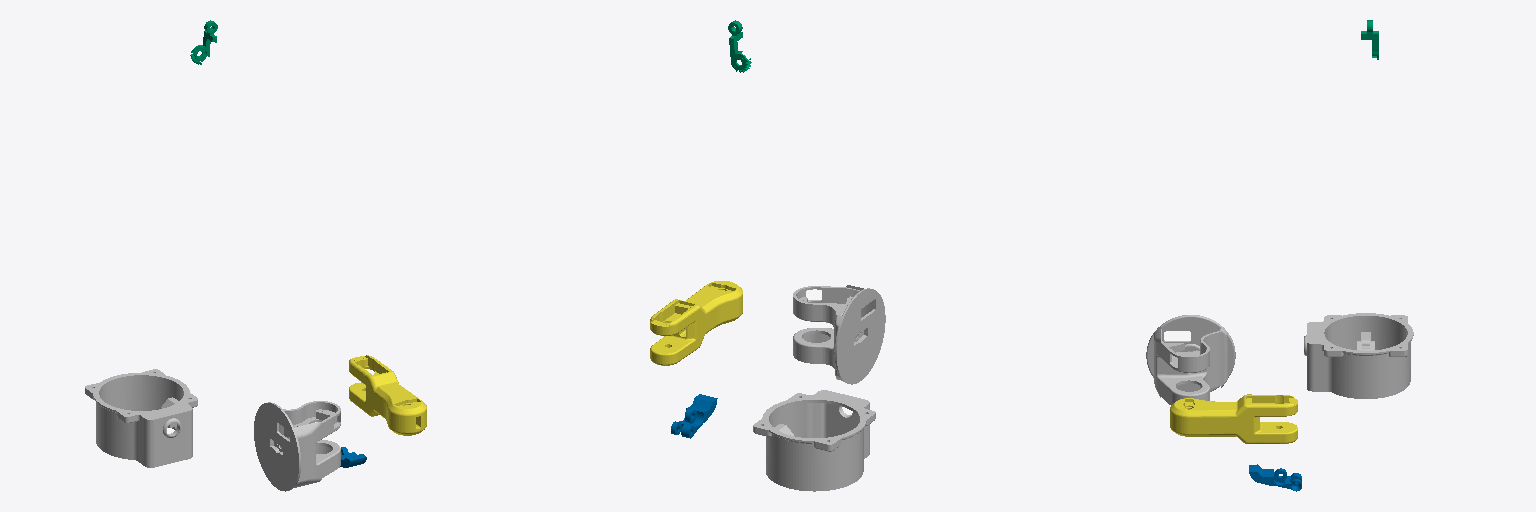
robot.urdf — arm4dof:
<?xml version="1.0"?>
<robot name="arm4dof">
  <link name="base_link"/>

  <link name="link1">
    <visual>
      <origin xyz="0 0 0" rpy="0 0 0"/>
      <geometry>
        <mesh filename="package://my_robot/meshes/Pieza1-0.17.stl" scale="0.001 0.001 0.001"/>
      </geometry>
      <material name="link1_mat"><color rgba="0.8 0.8 0.8 1"/></material>
    </visual>
    <collision><geometry><box size="0.050 0.050 0.300"/></geometry></collision>
    <inertial><mass value="0.5"/><inertia ixx="1e-3" iyy="1e-3" izz="1e-3" ixy="0" ixz="0" iyz="0"/></inertial>
  </link>

  <link name="link2">
    <visual>
      <origin xyz="0 0 0" rpy="0 0 0"/>
      <geometry>
        <mesh filename="package://my_robot/meshes/Pieza2-0.17.stlas" scale="0.001 0.001 0.001"/>
      </geometry>
      <material name="link2_mat"><color rgba="0.8 0.8 0.8 1"/></material>
    </visual>
    <visual>
      <origin xyz="0 0 0" rpy="0 0 0"/>
      <geometry>
        <mesh filename="package://my_robot/meshes/Pieza4-0.17.stl" scale="0.001 0.001 0.001"/>
      </geometry>
    </visual>
    <collision><geometry><box size="0.400 0.040 0.040"/></geometry></collision>
    <inertial><mass value="0.5"/><inertia ixx="1e-3" iyy="1e-3" izz="1e-3" ixy="0" ixz="0" iyz="0"/></inertial>
  </link>

  <link name="link3">
    <visual>
      <origin xyz="0 0 0" rpy="0 0 0"/>
      <geometry>
        <mesh filename="package://my_robot/meshes/Pieza6-0.17.stl" scale="0.001 0.001 0.001"/>
      </geometry>
      <material name="link3_mat"><color rgba="0.8 0.8 0.8 1"/></material>
    </visual>
    <visual>
      <origin xyz="0 0 0" rpy="0 0 0"/>
      <geometry>
        <mesh filename="package://my_robot/meshes/Pieza7-0.17.stl" scale="0.001 0.001 0.001"/>
      </geometry>
    </visual>
    <collision><geometry><box size="0.350 0.040 0.040"/></geometry></collision>
    <inertial><mass value="0.5"/><inertia ixx="1e-3" iyy="1e-3" izz="1e-3" ixy="0" ixz="0" iyz="0"/></inertial>
  </link>

  <link name="link4">
    <visual>
      <origin xyz="0 0 0" rpy="0 0 0"/>
      <geometry>
        <mesh filename="package://my_robot/meshes/Pieza18-0.17.stl" scale="0.001 0.001 0.001"/>
      </geometry>
      <material name="link4_mat"><color rgba="0.8 0.8 0.8 1"/></material>
    </visual>
    <visual>
      <origin xyz="0 0 0" rpy="0 0 0"/>
      <geometry>
        <mesh filename="package://my_robot/meshes/Pieza19-0.17.stl" scale="0.001 0.001 0.001"/>
      </geometry>
    </visual>
    <collision><geometry><box size="0.200 0.040 0.040"/></geometry></collision>
    <inertial><mass value="0.5"/><inertia ixx="1e-3" iyy="1e-3" izz="1e-3" ixy="0" ixz="0" iyz="0"/></inertial>
  </link>

  <link name="ee"/>

  <joint name="joint1" type="revolute">
    <parent link="base_link"/><child link="link1"/>
    <origin xyz="0.000000 0.000000 0.300000" rpy="1.570796 0.000000 1.570796"/>
    <axis xyz="0 0 1"/>
    <limit lower="-3.14159" upper="3.14159" velocity="2.0" effort="5.0"/>
  </joint>

  <joint name="joint2" type="revolute">
    <parent link="link1"/><child link="link2"/>
    <origin xyz="0.400000 0.000000 0.000000" rpy="0.000000 0.000000 -1.570796"/>
    <axis xyz="0 0 1"/>
    <limit lower="-3.14159" upper="3.14159" velocity="2.0" effort="5.0"/>
  </joint>

  <joint name="joint3" type="revolute">
    <parent link="link2"/><child link="link3"/>
    <origin xyz="0.350000 0.000000 0.000000" rpy="0.000000 0.000000 1.570796"/>
    <axis xyz="0 0 1"/>
    <limit lower="-3.14159" upper="3.14159" velocity="2.0" effort="5.0"/>
  </joint>

  <joint name="joint4" type="revolute">
    <parent link="link3"/><child link="link4"/>
    <origin xyz="0.200000 0.000000 0.000000" rpy="1.570796 0.000000 0.000000"/>
    <axis xyz="0 0 1"/>
    <limit lower="-3.14159" upper="3.14159" velocity="2.0" effort="5.0"/>
  </joint>

  <joint name="tool0_fixed" type="fixed">
    <parent link="link4"/><child link="ee"/>
    <origin xyz="0 0 0" rpy="0 0 0"/>
  </joint>
</robot>

--- Facts derived from the render (not from the file) ---
3 views of the same robot in one strip: view 1: azimuth 30°, elevation 25°; view 2: azimuth 150°, elevation 25°; view 3: azimuth 270°, elevation 25° (orthographic).
Robot: arm4dof — 6 links, 5 joints (4 revolute, 1 fixed); root link base_link; default pose: all joints at 0.
Visible links, largest first — view 1: link3, link4, link2; view 2: link3, link4, link2; view 3: link3, link4.
Boxes of the visible links, x1=… form: link3: x1=254, y1=355, x2=426, y2=491; link4: x1=85, y1=369, x2=366, y2=467; link2: x1=190, y1=20, x2=217, y2=64; link3: x1=650, y1=281, x2=885, y2=384; link4: x1=671, y1=390, x2=875, y2=491; link2: x1=728, y1=20, x2=751, y2=72; link3: x1=1146, y1=315, x2=1297, y2=443; link4: x1=1249, y1=313, x2=1413, y2=491.
Size in the robot's own frame: 0.3044 by 0.3054 by 0.5359 metres.
5 mesh visuals loaded from 7 distinct referenced files (5 binary STL); not drawn: 2 (reference not matched to a file when rendering).